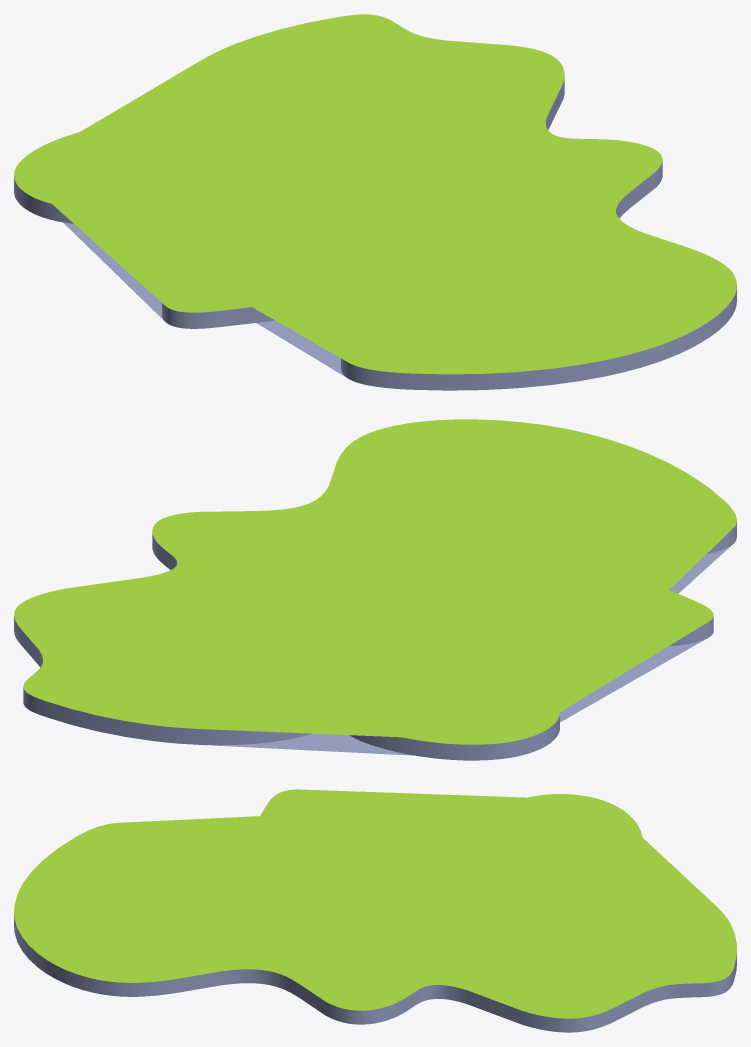
The model's file is Lastholes17.fbx.
3 renders of one model, top to bottom at view 1: azimuth 30°, elevation 25°; view 2: azimuth 150°, elevation 25°; view 3: azimuth 270°, elevation 25°, orthographic. The views are drawn at different scales.
Visible parts, largest first — view 1: mainRes_2; view 2: mainRes_2; view 3: mainRes_2.
Part boxes in pixels (x1,y1,x2,y2): mainRes_2: (14, 14, 736, 390); mainRes_2: (14, 419, 736, 760); mainRes_2: (14, 789, 736, 1032).
Size of the model in its own units: 1058 by 30 by 1411.
